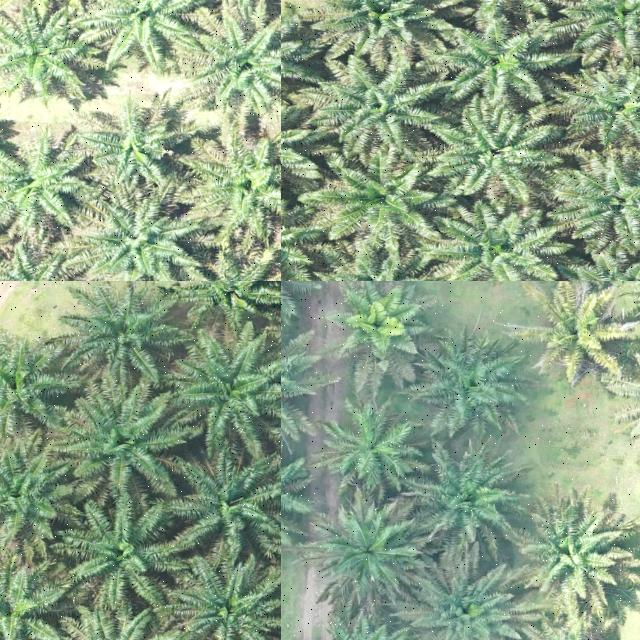Ganoderma: (346, 292, 418, 352)
